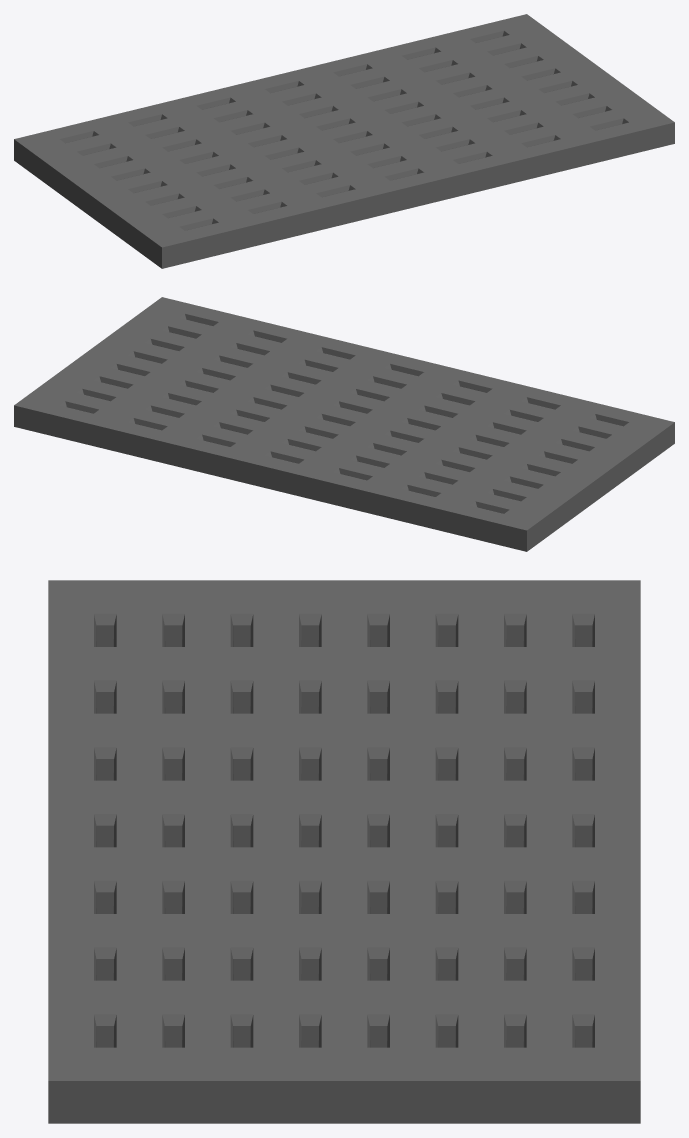
The model's file is Pig_Floor_Small.fbx.
The picture shows the model from 3 angles, top to bottom: view 1: azimuth 30°, elevation 25°; view 2: azimuth 150°, elevation 25°; view 3: azimuth 270°, elevation 25°; orthographic projection. The views are drawn at different scales.
Visible parts, largest first — view 1: Sinkholes.lose; view 2: Sinkholes.lose; view 3: Sinkholes.lose.
Boxes of the visible parts, x1,y1,x2,y2 form: Sinkholes.lose: (14,14,674,268); Sinkholes.lose: (14,297,674,551); Sinkholes.lose: (48,580,640,1123).
Bounding box in the file's own units: 200 × 7.97 × 100.
Materials: 1 (1 with a texture image).
